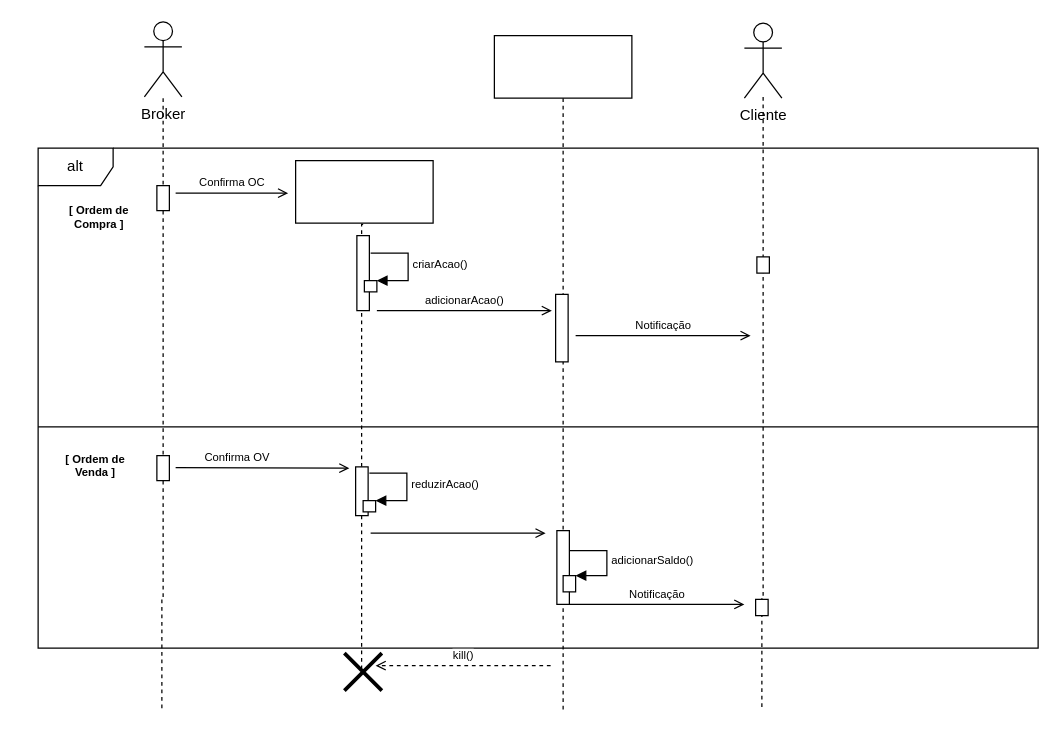
This 1060x734 diagram has some shape labels left out. The shapes that lost their labels are listed below. From the top down, each one's centre as x and y in pixels, then its label:
[562,66]: Carteira
[363,191]: Ação
